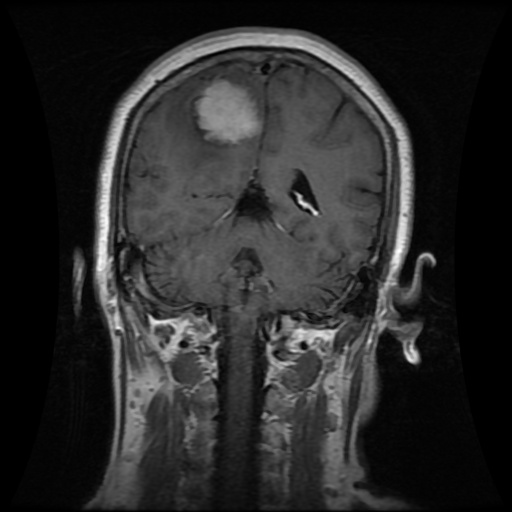meningioma: (192, 79, 262, 146)
